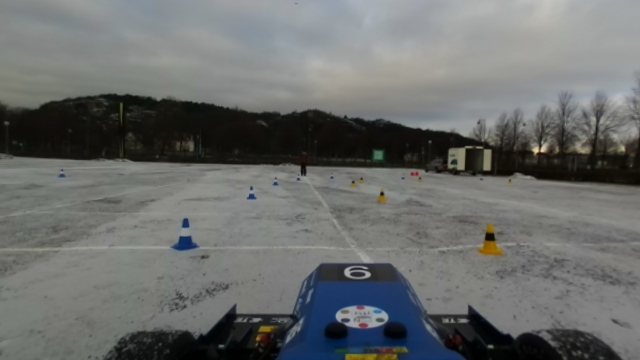blue: (169, 213, 200, 252)
yellow: (477, 221, 507, 258)
